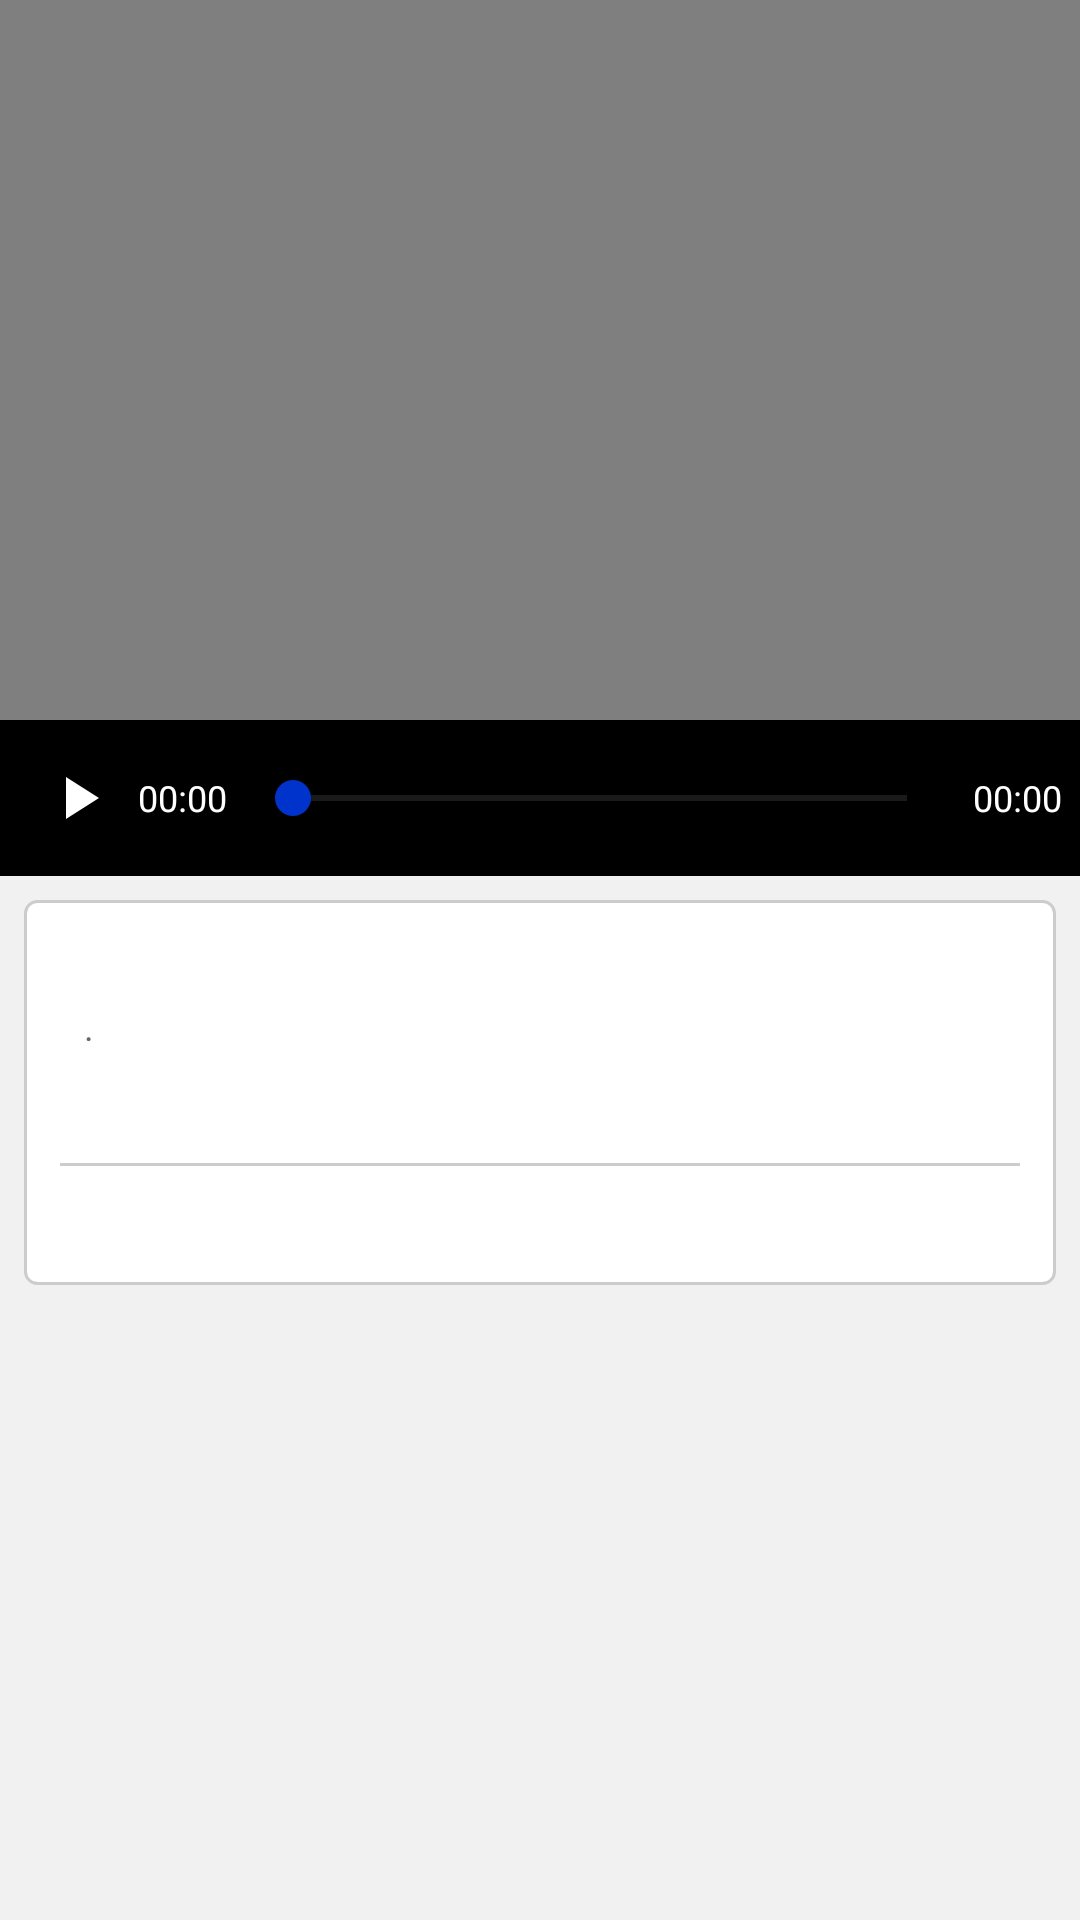

Named icons in this screenshot (1080 x 1920) and their bounding boxes, [x1, y1, x2, y2]:
Play / Pause: [66, 777, 99, 819]
